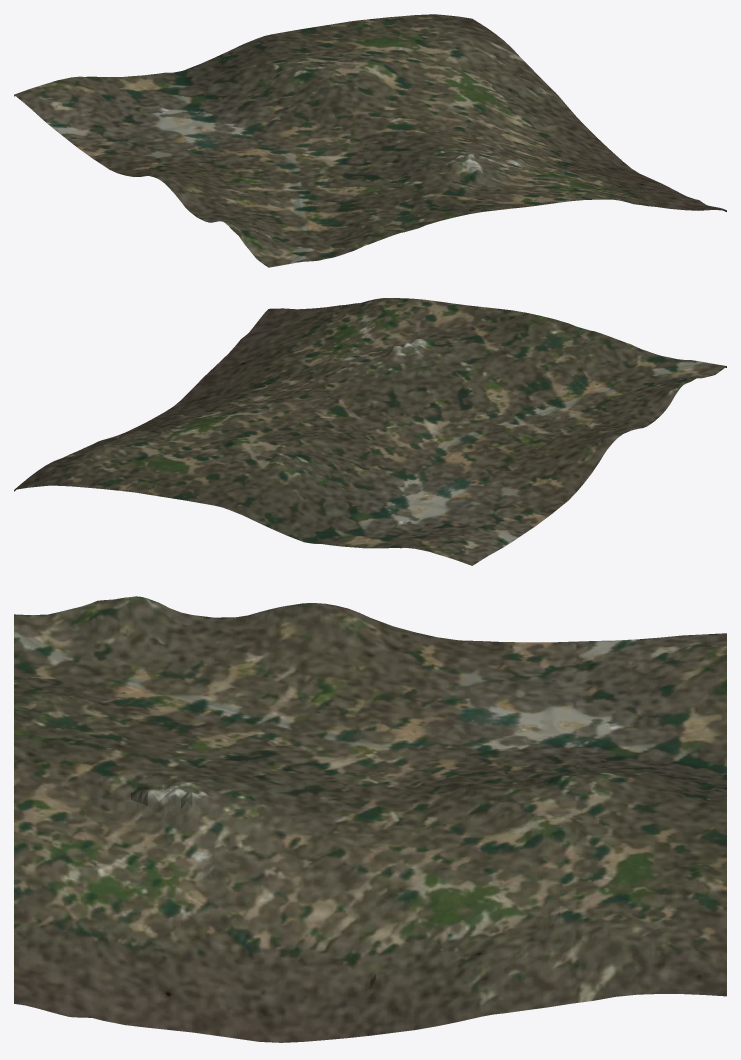
3 renders of one model, top to bottom at view 1: azimuth 30°, elevation 25°; view 2: azimuth 150°, elevation 25°; view 3: azimuth 270°, elevation 25°, orthographic. The views are drawn at different scales.
Size of the model in its own units: 250 by 50.72 by 241.
Materials: 1 (1 with a texture image).
